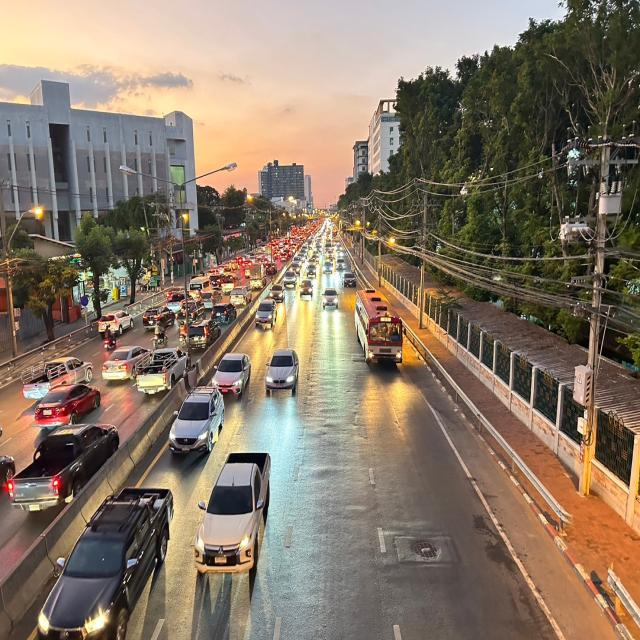truck: (353, 280, 408, 378)
